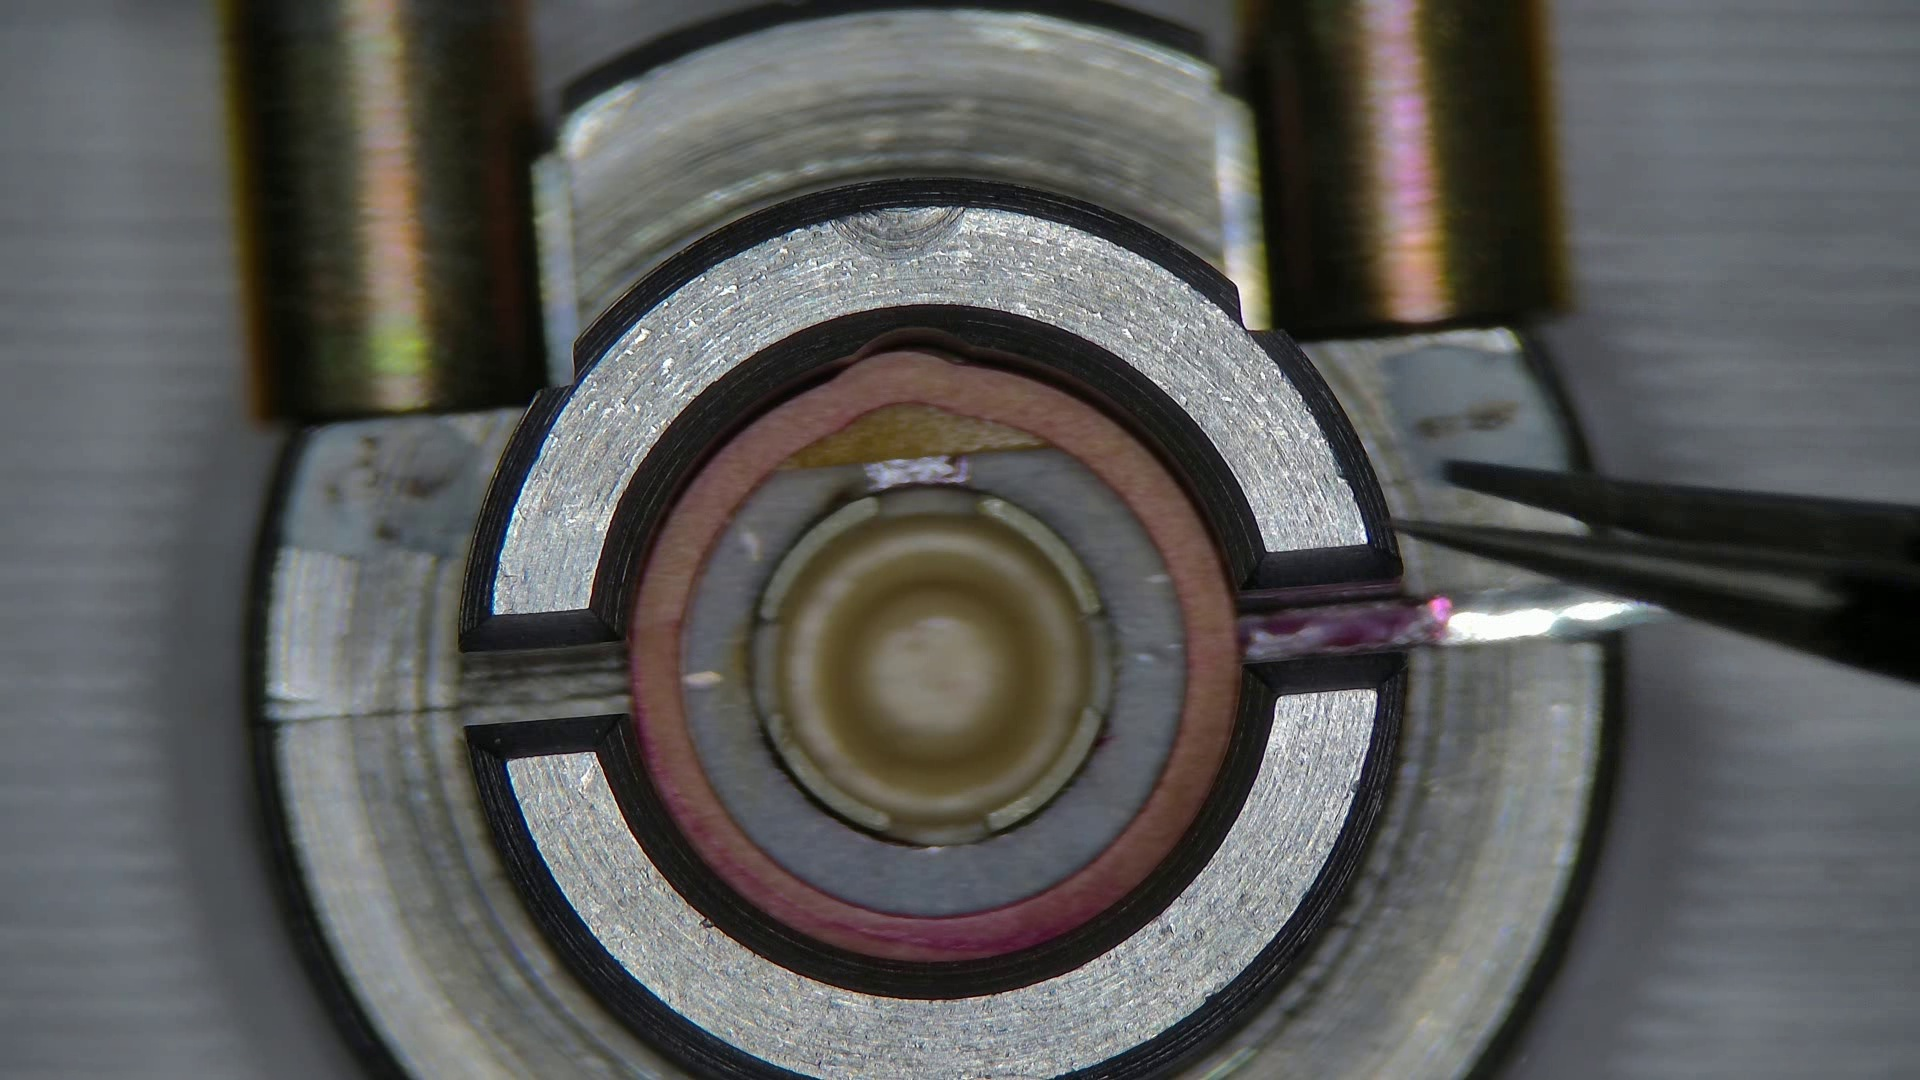GreyOring: (630, 348, 1240, 961)
YellowOring: (686, 451, 1185, 913)
redOring: (783, 405, 1044, 464)
